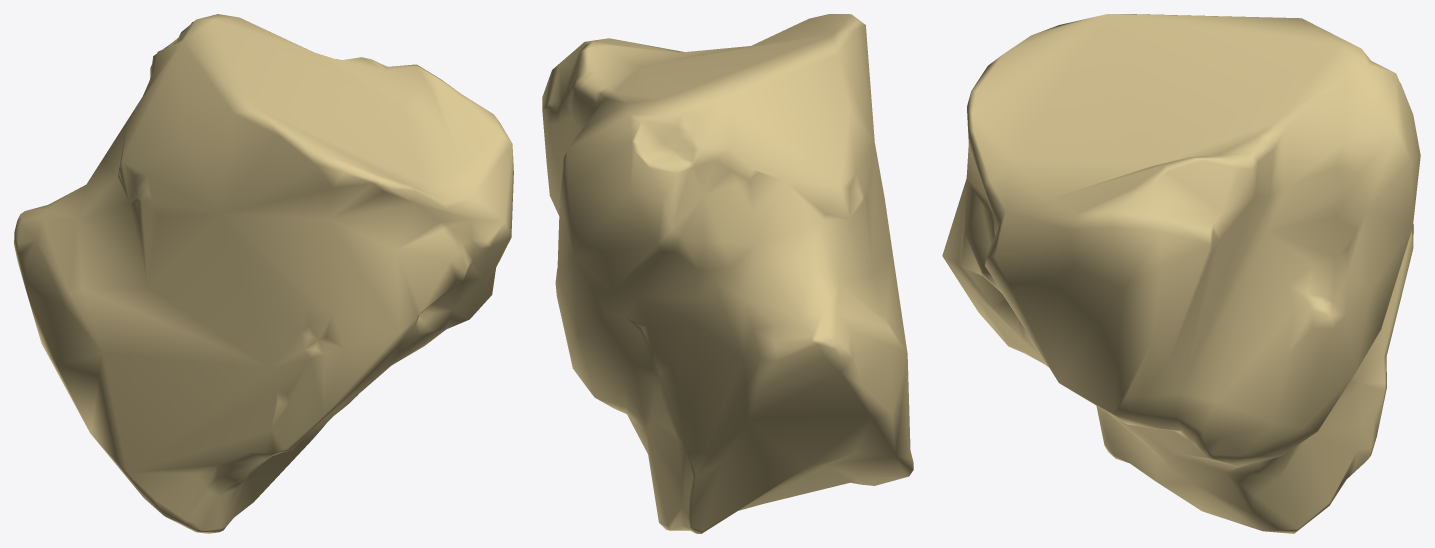
3 views of the same model, side by side, from view 1: azimuth 30°, elevation 25°; view 2: azimuth 150°, elevation 25°; view 3: azimuth 270°, elevation 25° (orthographic). The views are drawn at different scales.
Parts seen in each view (by area): view 1: 右侧骰骨; view 2: 右侧骰骨; view 3: 右侧骰骨.
Part boxes in pixels (box(x1,y1,x2,y2)): 右侧骰骨: box(14, 14, 513, 533); 右侧骰骨: box(542, 14, 913, 533); 右侧骰骨: box(942, 14, 1420, 533).
Bounding box in the file's own units: 0.0475 × 0.0504 × 0.0455.
